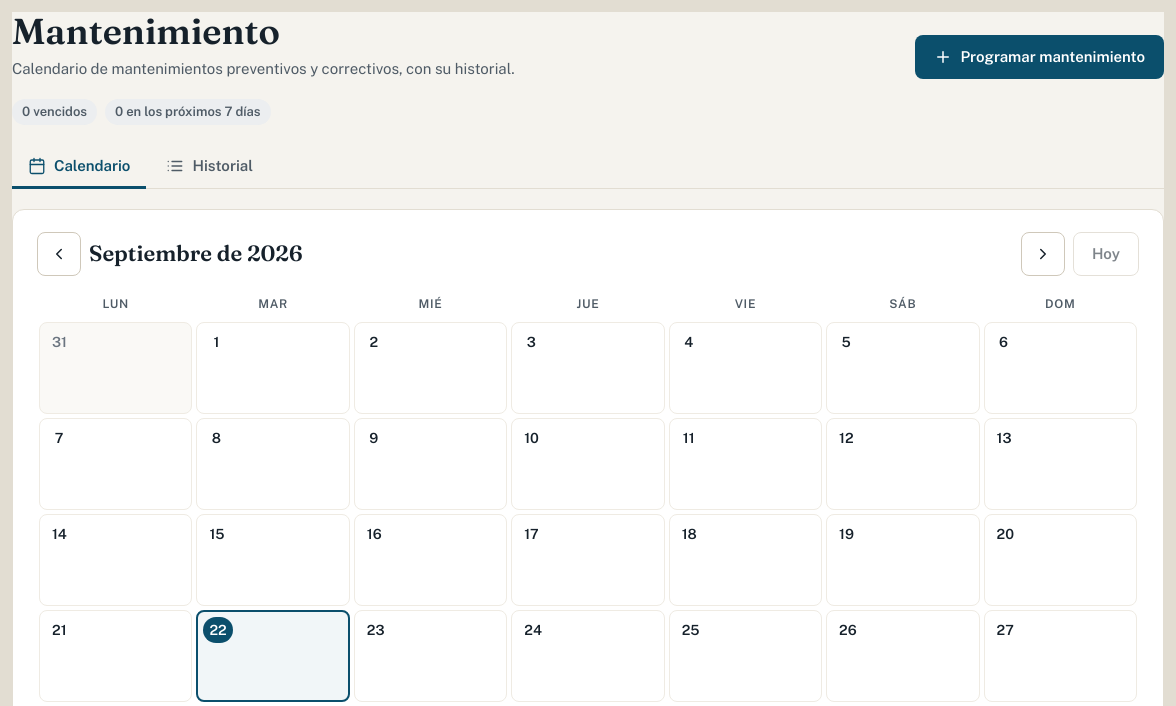
Test: MantenimientoVista · calendario › cambia de mes con las flechas y regresa a hoy
Click the button named "Mes siguiente".
click(1043, 254)  # box [1021,232,1065,276]
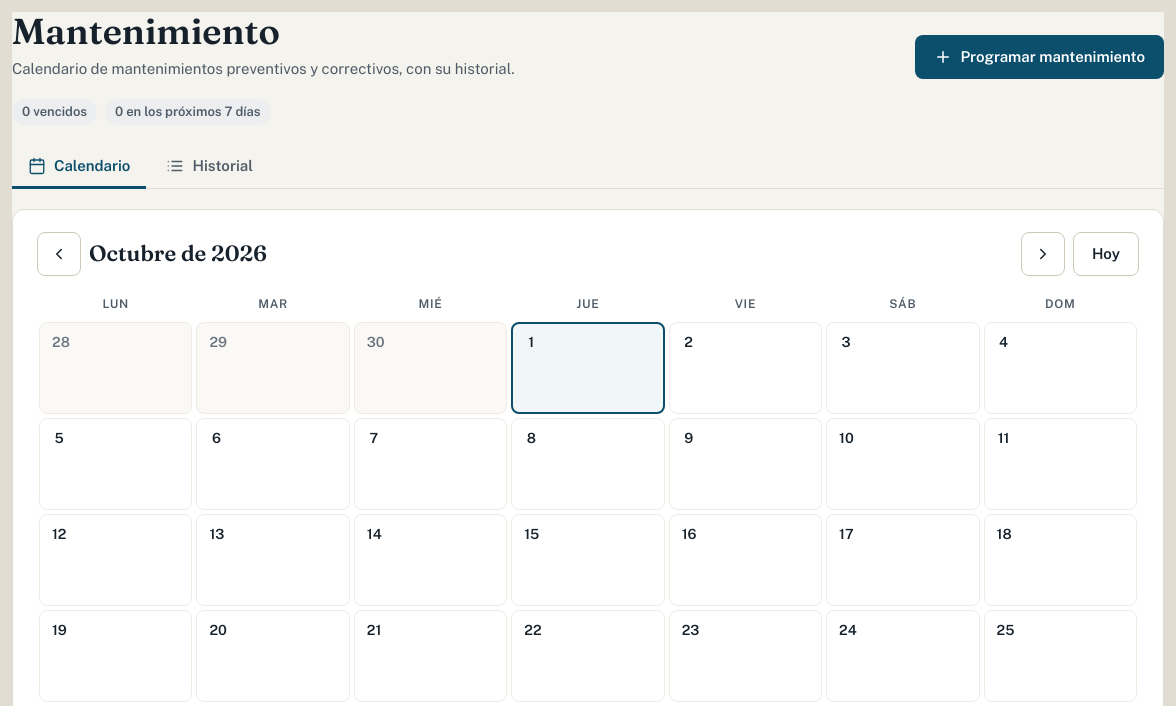
Expected: the heading with class "nombre-mes" reads "Octubre de 2026", [89,239,267,267]
Click the button with class "boton" showing "Hoy".
click(1106, 254)  # box [1073,232,1139,276]
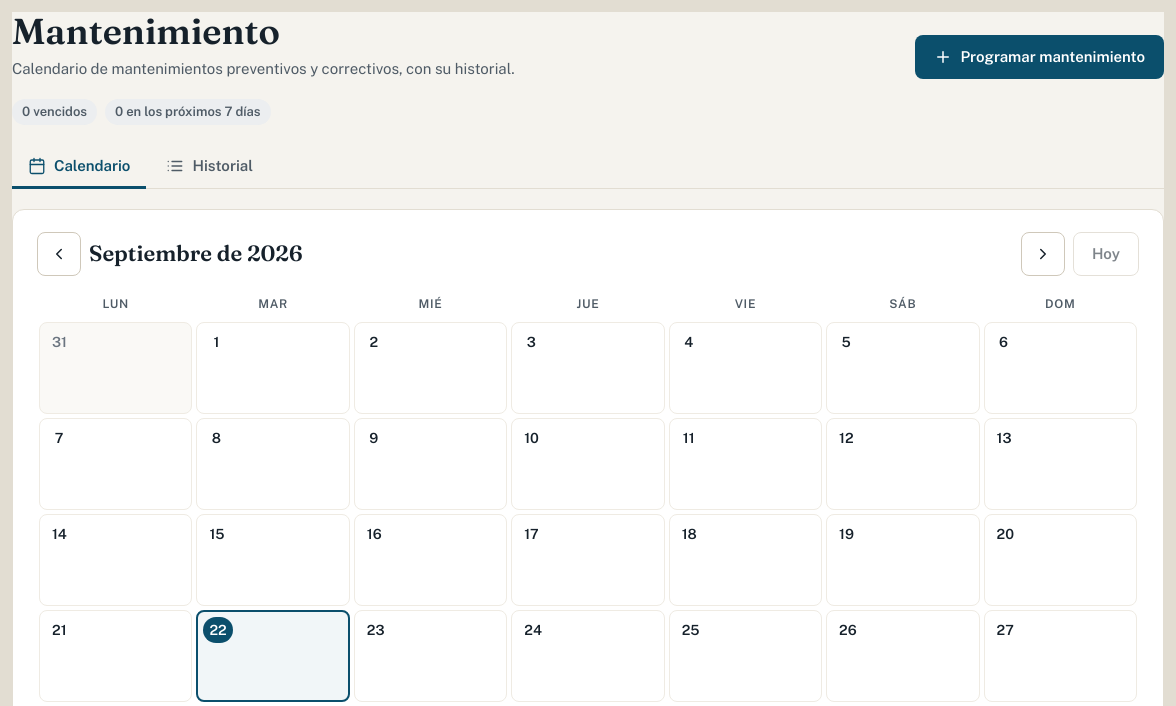
Expected: the heading with class "nombre-mes" reads "Septiembre de 2026", [89,239,302,267]
